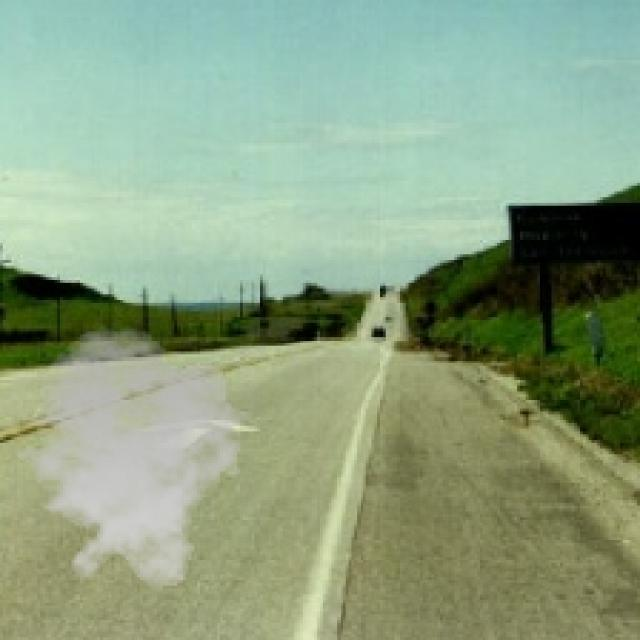Smoke: (2, 326, 258, 592)
